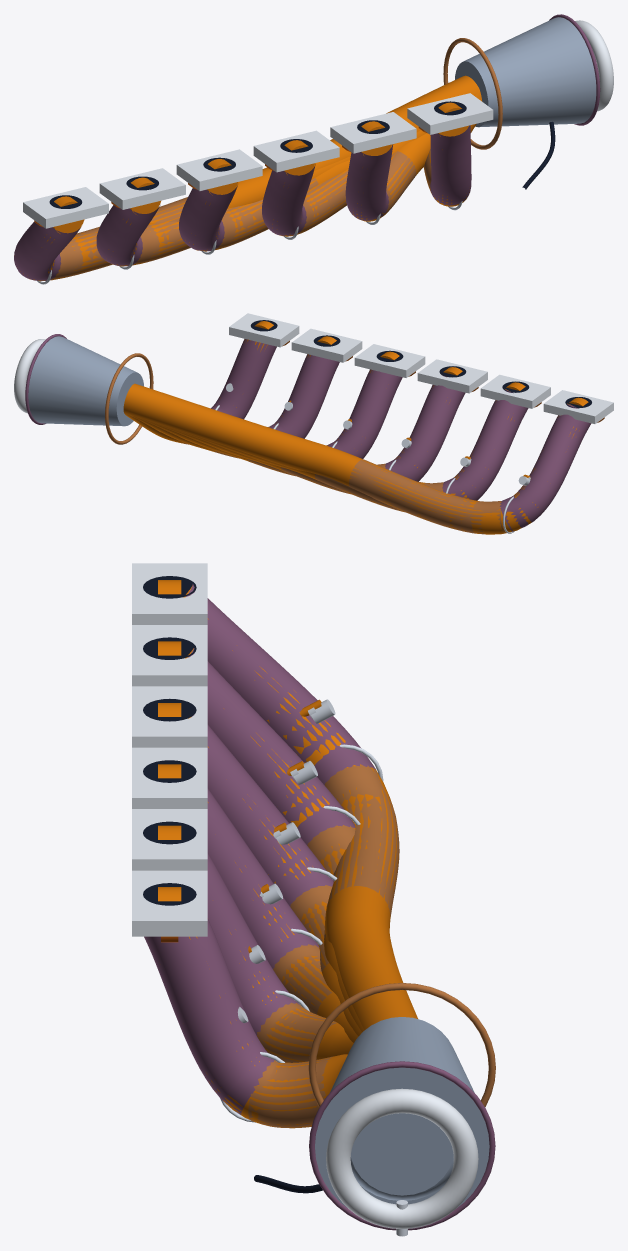
File: exhaust-header-right.glb
3 renders of one model, top to bottom at view 1: azimuth 30°, elevation 25°; view 2: azimuth 150°, elevation 25°; view 3: azimuth 270°, elevation 25°, orthographic. The views are drawn at different scales.
Visible parts, largest first — view 1: High_Velocity_Merge_Collector_Cone, Inconel_Primary_Pipe_1, Primary_Heat_Tint_Purple_Zone_6, Primary_Heat_Tint_Purple_Zone_5, Primary_Heat_Tint_Purple_Zone_4, Primary_Heat_Tint_Purple_Zone_3, Primary_Heat_Tint_Purple_Zone_2, Primary_Heat_Tint_Purple_Zone_1, Exhaust_Port_Flange_4, Exhaust_Port_Flange_6, Exhaust_Port_Flange_2, Exhaust_Port_Flange_3 (+19 smaller); view 2: Inconel_Primary_Pipe_1, High_Velocity_Merge_Collector_Cone, Primary_Heat_Tint_Straw_Zone_1, Primary_Heat_Tint_Purple_Zone_1, Primary_Heat_Tint_Purple_Zone_2, Primary_Heat_Tint_Purple_Zone_3, Primary_Heat_Tint_Purple_Zone_4, Primary_Heat_Tint_Purple_Zone_5, Primary_Heat_Tint_Purple_Zone_6, Exhaust_Port_Flange_5, Exhaust_Port_Flange_4, Exhaust_Port_Flange_6 (+12 smaller); view 3: High_Velocity_Merge_Collector_Cone, Primary_Heat_Tint_Purple_Zone_6, Inconel_Primary_Pipe_1, QuickRelease_VBand_Exhaust_Flange, Primary_Heat_Tint_Purple_Zone_1, Primary_Heat_Tint_Purple_Zone_2, Primary_Heat_Tint_Purple_Zone_3, Primary_Heat_Tint_Purple_Zone_4, Primary_Heat_Tint_Straw_Zone_1, Primary_Heat_Tint_Purple_Zone_5, Exhaust_Port_Flange_6, Exhaust_Port_Flange_4 (+16 smaller).
Part boxes in pixels (x1,y1,x2,y2): High_Velocity_Merge_Collector_Cone: [455, 17, 596, 127]; Inconel_Primary_Pipe_1: [14, 75, 478, 281]; Primary_Heat_Tint_Purple_Zone_6: [430, 125, 471, 205]; Primary_Heat_Tint_Purple_Zone_5: [345, 144, 392, 221]; Primary_Heat_Tint_Purple_Zone_4: [262, 166, 314, 236]; Primary_Heat_Tint_Purple_Zone_3: [179, 186, 237, 251]; Primary_Heat_Tint_Purple_Zone_2: [96, 205, 160, 266]; Primary_Heat_Tint_Purple_Zone_1: [14, 222, 80, 280]; Exhaust_Port_Flange_4: [253, 130, 339, 172]; Exhaust_Port_Flange_6: [407, 93, 493, 134]; Exhaust_Port_Flange_2: [99, 168, 185, 209]; Exhaust_Port_Flange_3: [176, 149, 262, 190]; Inconel_Primary_Pipe_1: [123, 383, 579, 534]; High_Velocity_Merge_Collector_Cone: [28, 336, 143, 426]; Primary_Heat_Tint_Straw_Zone_1: [349, 459, 505, 534]; Primary_Heat_Tint_Purple_Zone_1: [499, 404, 591, 531]; Primary_Heat_Tint_Purple_Zone_2: [442, 389, 528, 500]; Primary_Heat_Tint_Purple_Zone_3: [385, 375, 465, 481]; Primary_Heat_Tint_Purple_Zone_4: [328, 369, 402, 458]; Primary_Heat_Tint_Purple_Zone_5: [269, 354, 339, 438]; Primary_Heat_Tint_Purple_Zone_6: [211, 339, 276, 419]; Exhaust_Port_Flange_5: [291, 328, 362, 362]; Exhaust_Port_Flange_4: [354, 344, 425, 377]; Exhaust_Port_Flange_6: [229, 313, 299, 347]; High_Velocity_Merge_Collector_Cone: [315, 1017, 489, 1208]; Primary_Heat_Tint_Purple_Zone_6: [144, 919, 274, 1114]; Inconel_Primary_Pipe_1: [183, 585, 417, 1030]; QuickRelease_VBand_Exhaust_Flange: [326, 1088, 478, 1228]; Primary_Heat_Tint_Purple_Zone_1: [186, 584, 375, 784]; Primary_Heat_Tint_Purple_Zone_2: [188, 648, 355, 845]; Primary_Heat_Tint_Purple_Zone_3: [192, 714, 333, 906]; Primary_Heat_Tint_Purple_Zone_4: [207, 788, 319, 968]; Primary_Heat_Tint_Straw_Zone_1: [324, 765, 399, 916]; Primary_Heat_Tint_Purple_Zone_5: [207, 853, 299, 1037]; Exhaust_Port_Flange_6: [132, 870, 207, 936]; Exhaust_Port_Flange_4: [132, 747, 207, 808].
Size of the model in its own units: 0.8195 by 0.1665 by 0.2505.
